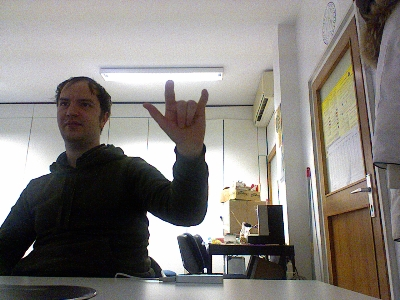我爱你: (139, 78, 210, 153)
